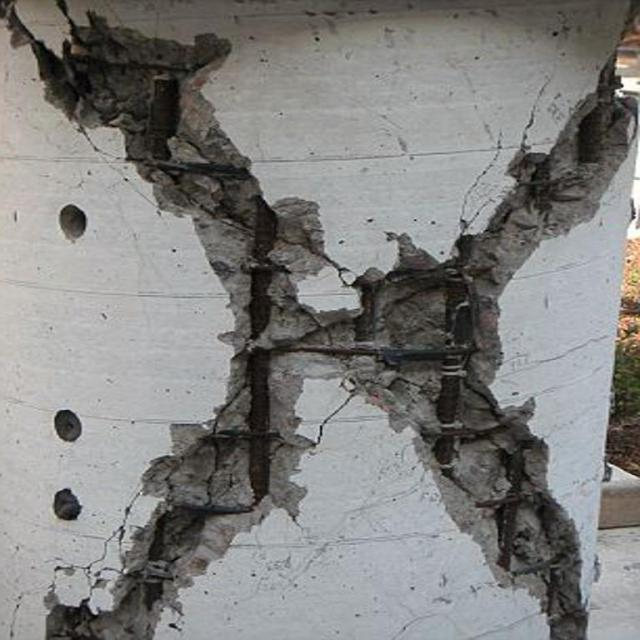Spalling: (32, 16, 634, 639)
corrosion: (240, 198, 277, 503)
